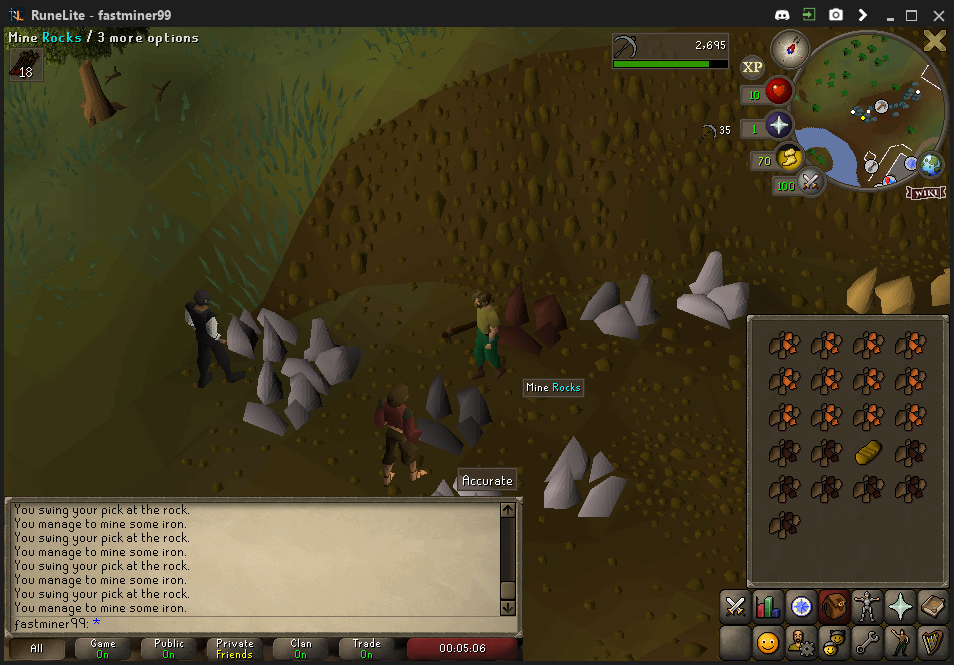depleted: (401, 377, 495, 452)
ore: (485, 285, 565, 358)
